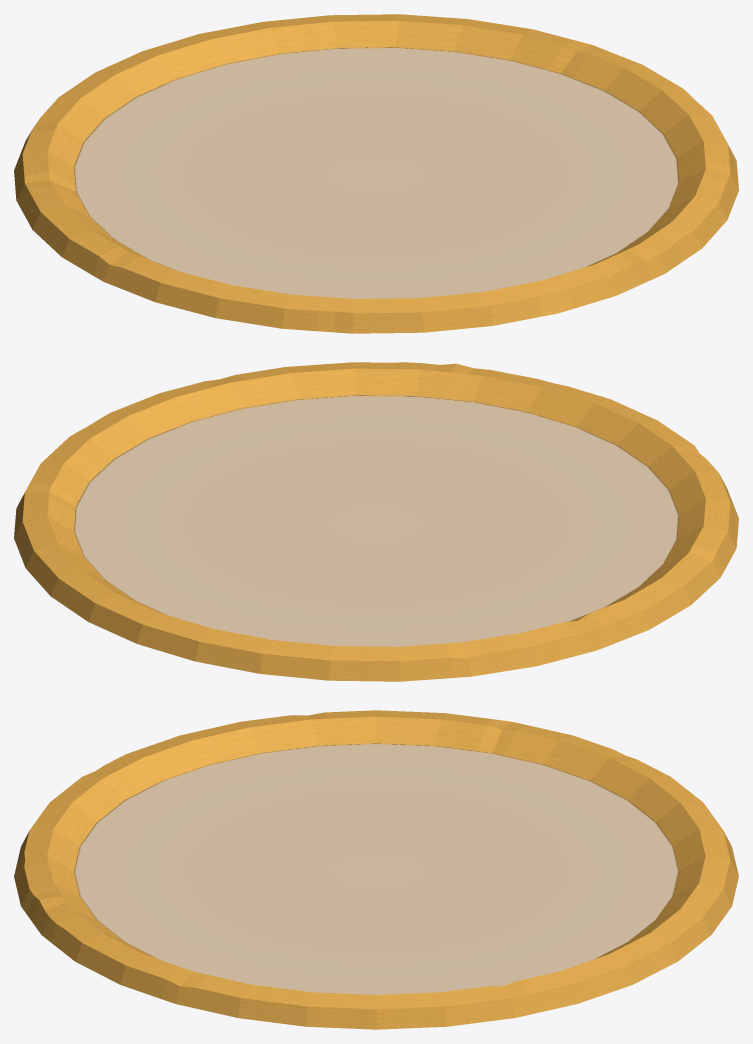
Rendered from WorldItem_PizzaWhiteSauced.fbx.
The picture shows the model from 3 angles, top to bottom: view 1: azimuth 30°, elevation 25°; view 2: azimuth 150°, elevation 25°; view 3: azimuth 270°, elevation 25°; orthographic projection.
Visible parts, largest first — view 1: Pizza; view 2: Pizza; view 3: Pizza.
Boxes of the visible parts, x1=… form: Pizza: x1=14, y1=14, x2=738, y2=333; Pizza: x1=14, y1=362, x2=738, y2=681; Pizza: x1=14, y1=710, x2=738, y2=1029.
Size of the model in its own units: 45.79 by 2.22 by 45.79.
